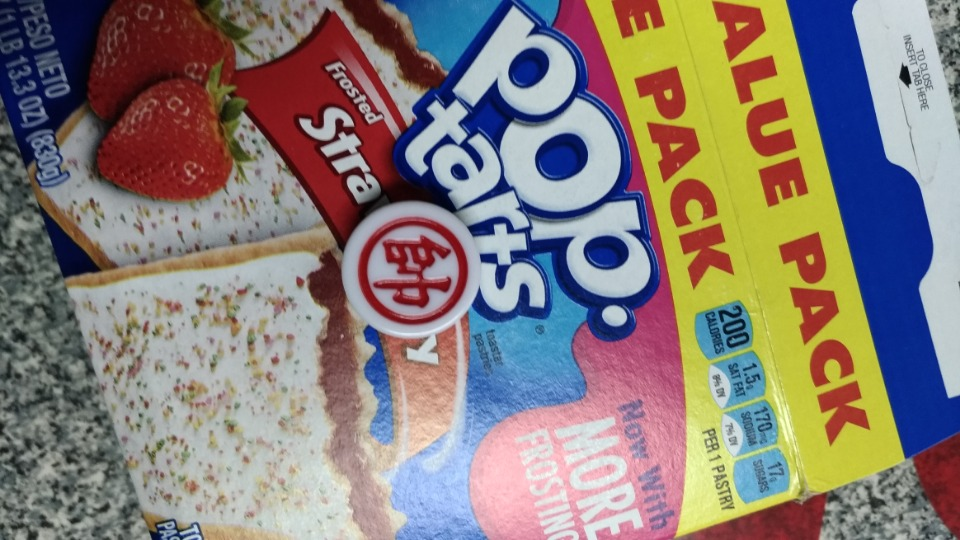r-king: (327, 189, 492, 346)
